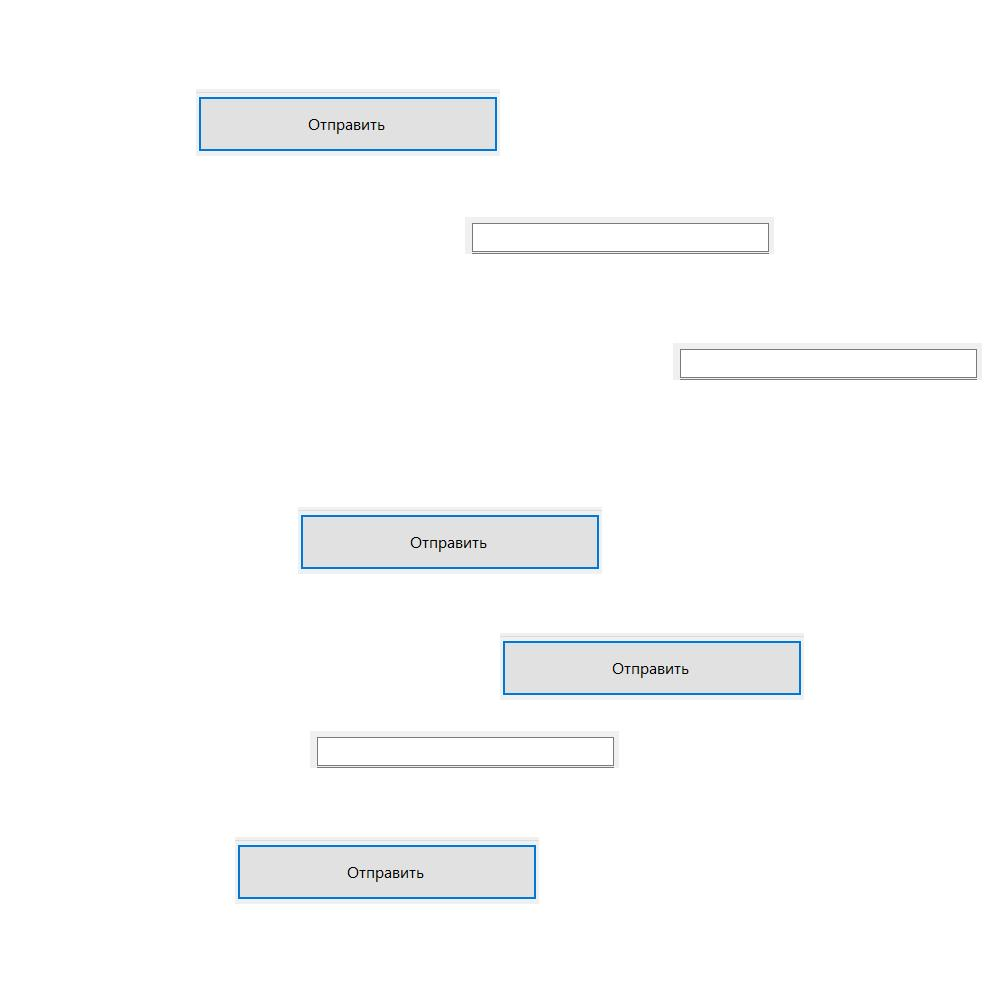Button: (298, 507, 602, 574), (235, 837, 539, 904), (500, 633, 804, 700), (196, 89, 500, 156)
EditText-: (465, 217, 774, 254), (673, 343, 982, 380), (310, 731, 619, 768)
